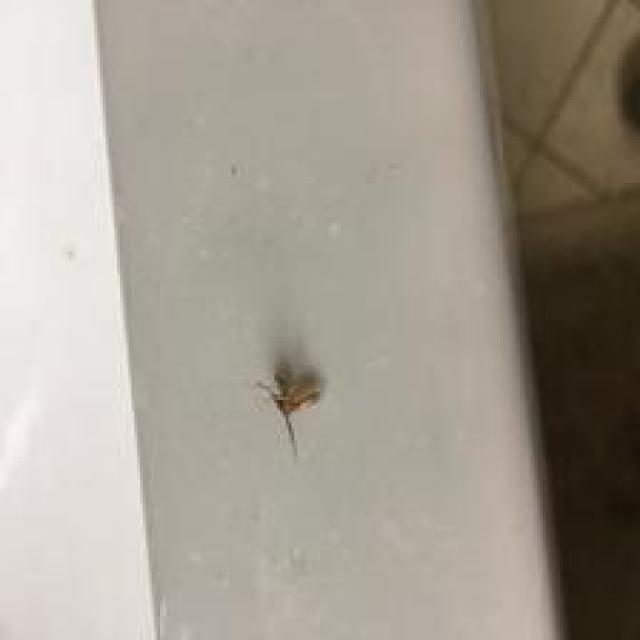Culex: (254, 358, 323, 456)
